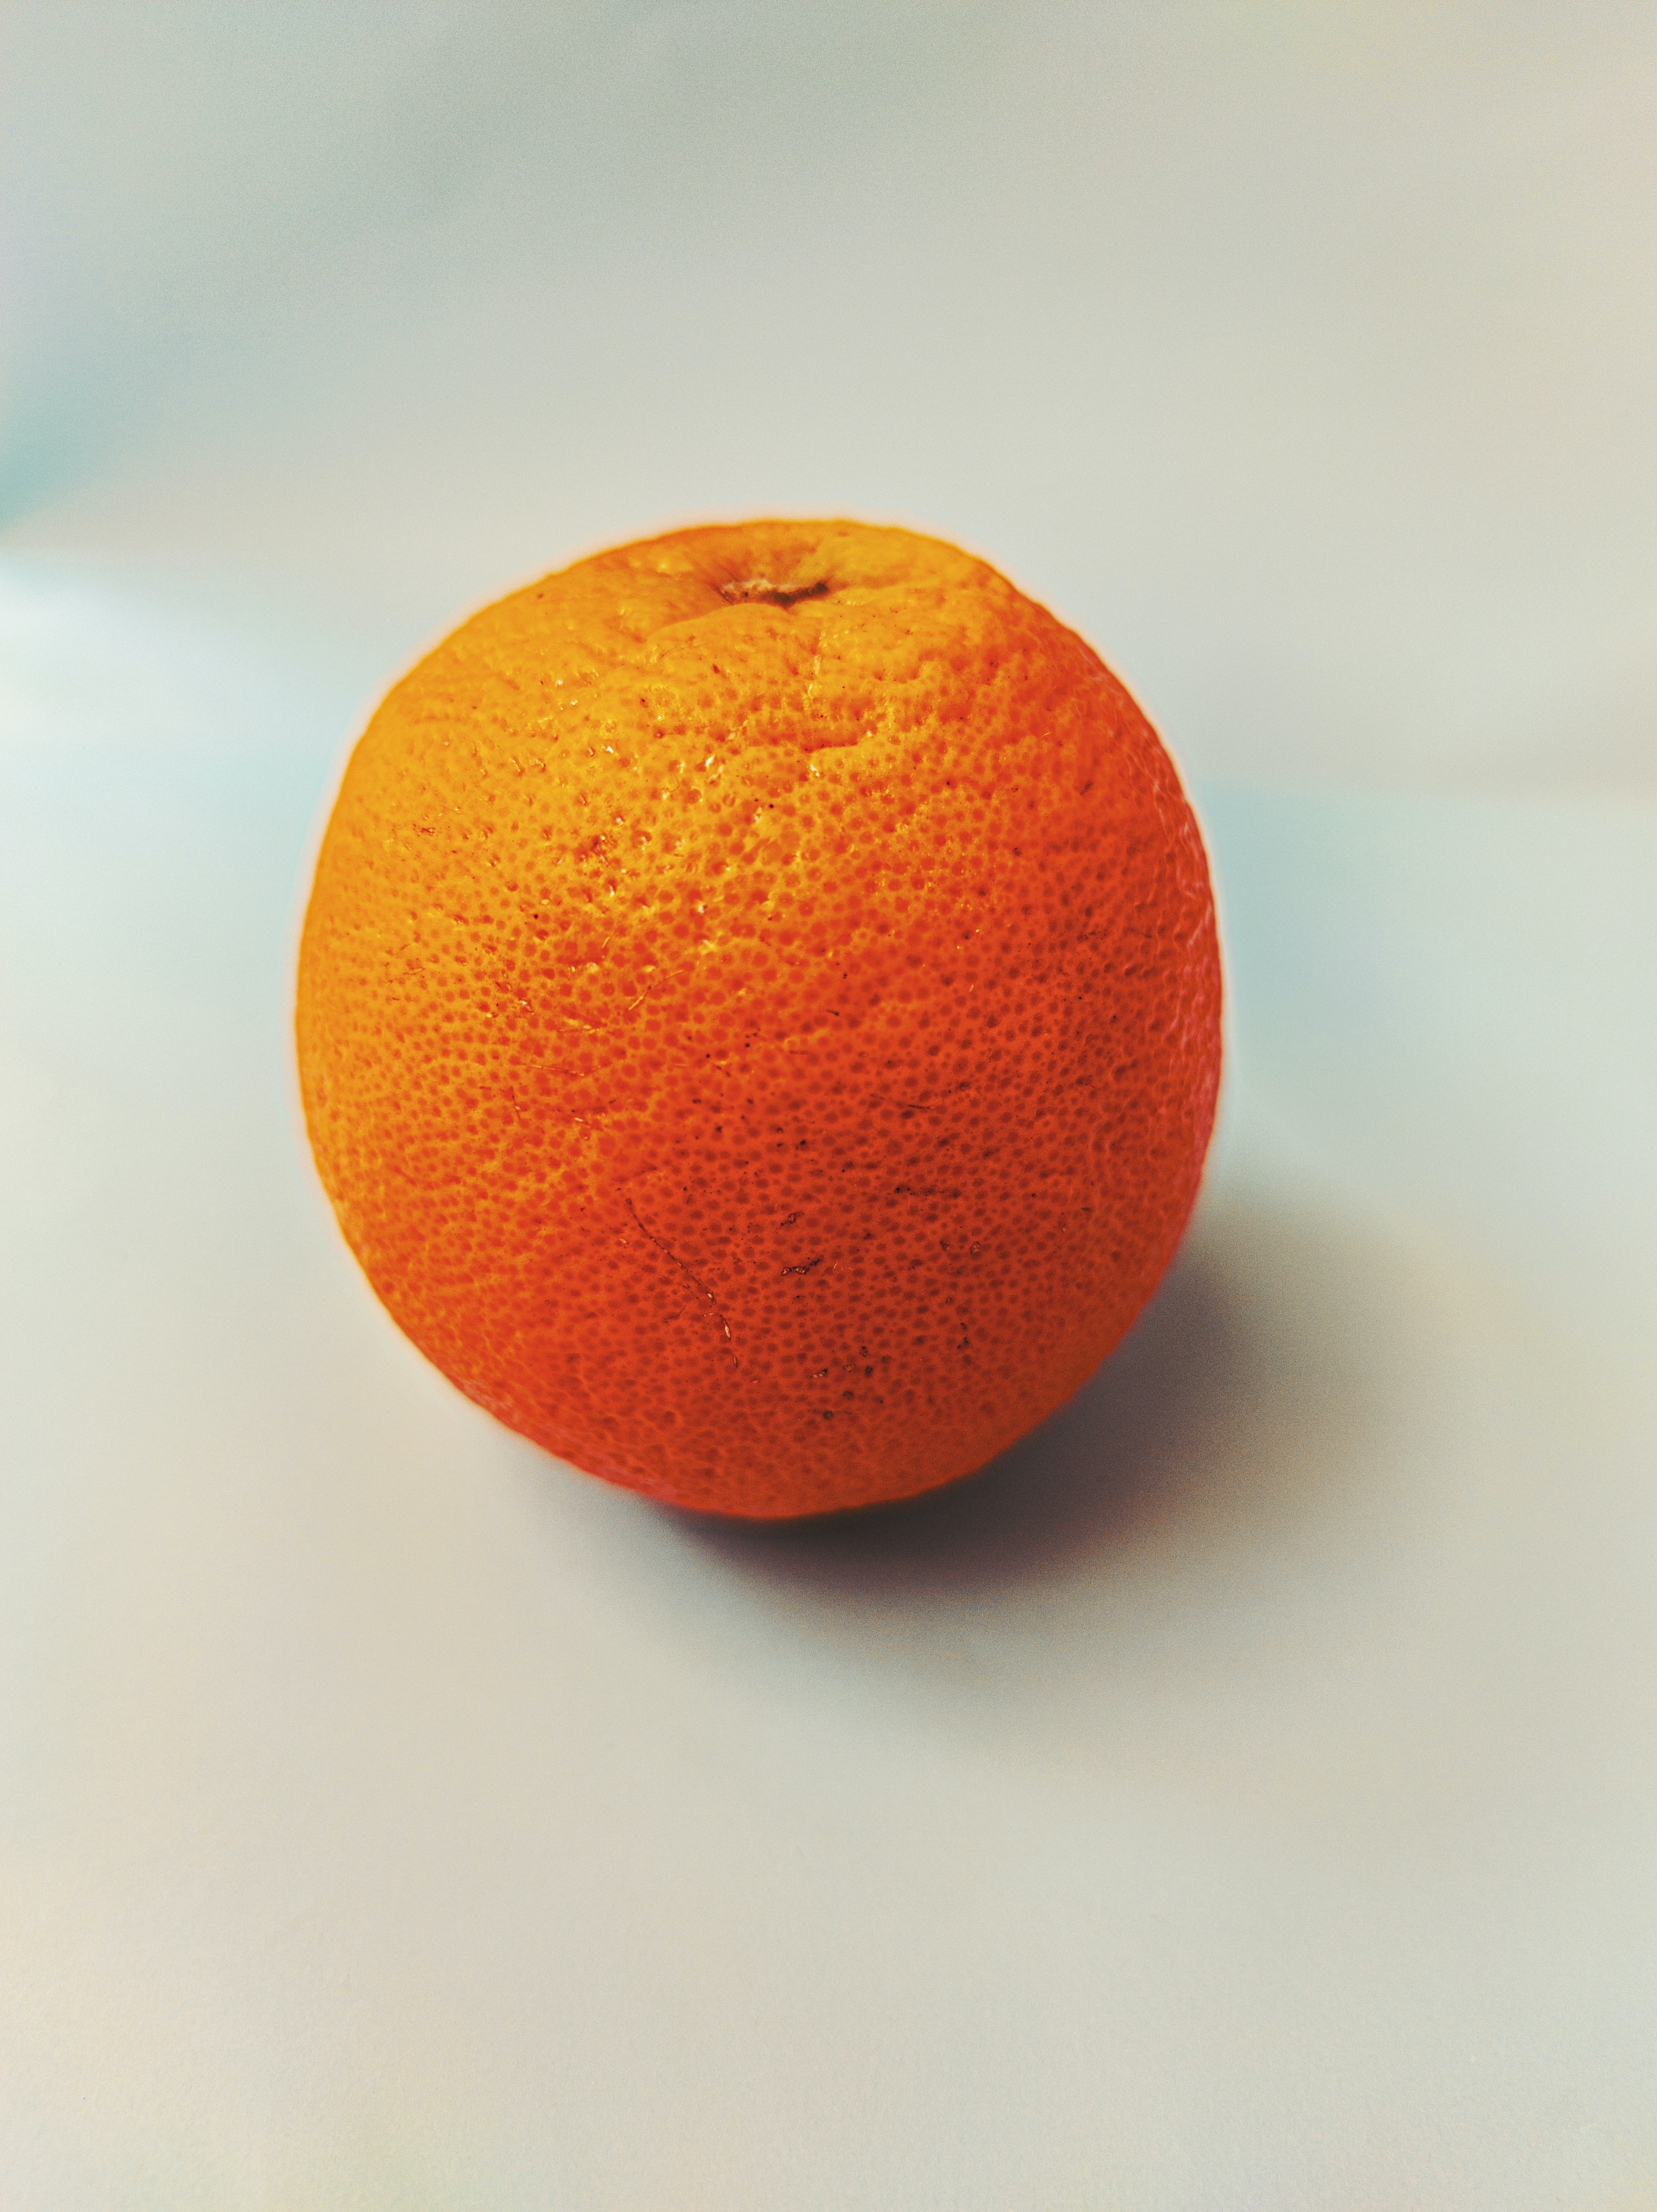Orange: (294, 513, 1227, 1521)
